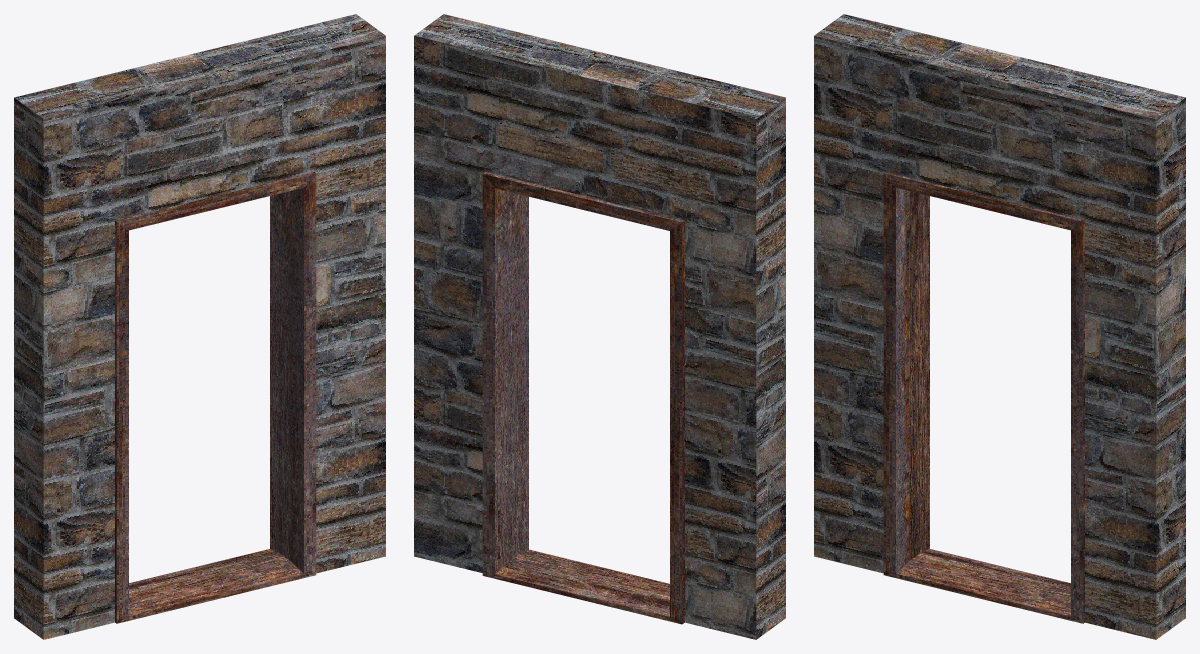
File: cellar-doorway.glb
The picture shows the model from 3 angles, left to right: view 1: azimuth 30°, elevation 25°; view 2: azimuth 150°, elevation 25°; view 3: azimuth 330°, elevation 25°; orthographic projection.
Visible parts, largest first — view 1: cellar-doorway.001; view 2: cellar-doorway.001; view 3: cellar-doorway.001.
Boxes of the visible parts, box(x1,y1,x2,y2) form: cellar-doorway.001: box(14, 14, 385, 639); cellar-doorway.001: box(414, 14, 785, 639); cellar-doorway.001: box(814, 14, 1185, 639).
Bounding box in the file's own units: 2 × 2.91 × 0.3443.
Materials: 2 (2 with a texture image).
